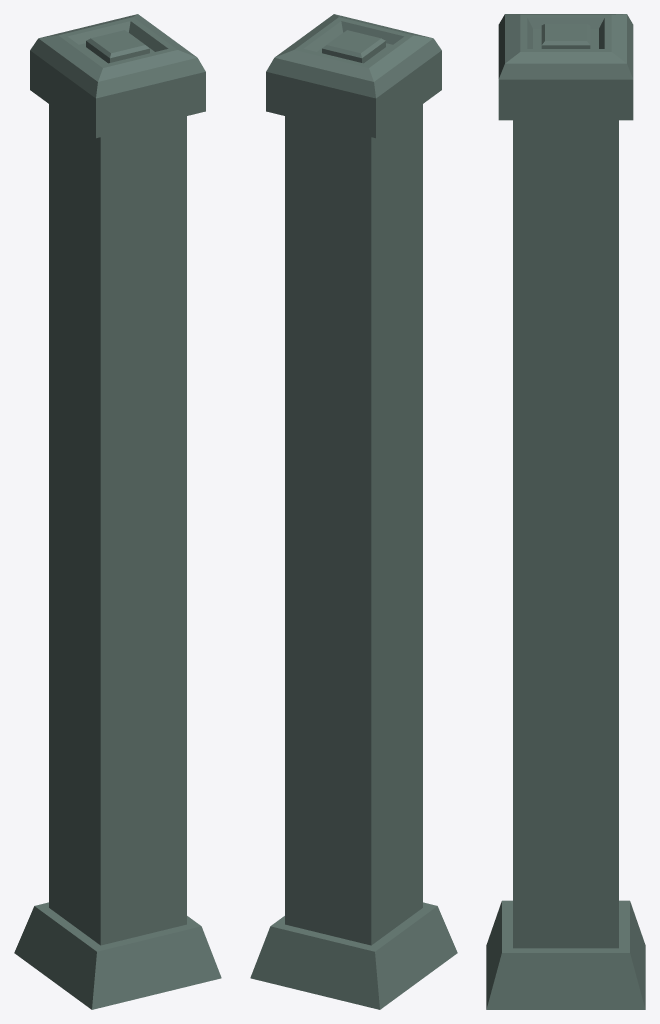
File: wallPillar.fbx
3 renders of one model, left to right at view 1: azimuth 30°, elevation 25°; view 2: azimuth 150°, elevation 25°; view 3: azimuth 270°, elevation 25°, orthographic. The views are drawn at different scales.
Visible parts, largest first — view 1: WallPillar; view 2: WallPillar; view 3: WallPillar.
Part boxes in pixels (x1,y1,x2,y2): WallPillar: [14, 14, 221, 1009]; WallPillar: [250, 14, 457, 1009]; WallPillar: [486, 14, 645, 1009].
Size of the model in its own units: 0.6 by 4.08 by 0.6224.
